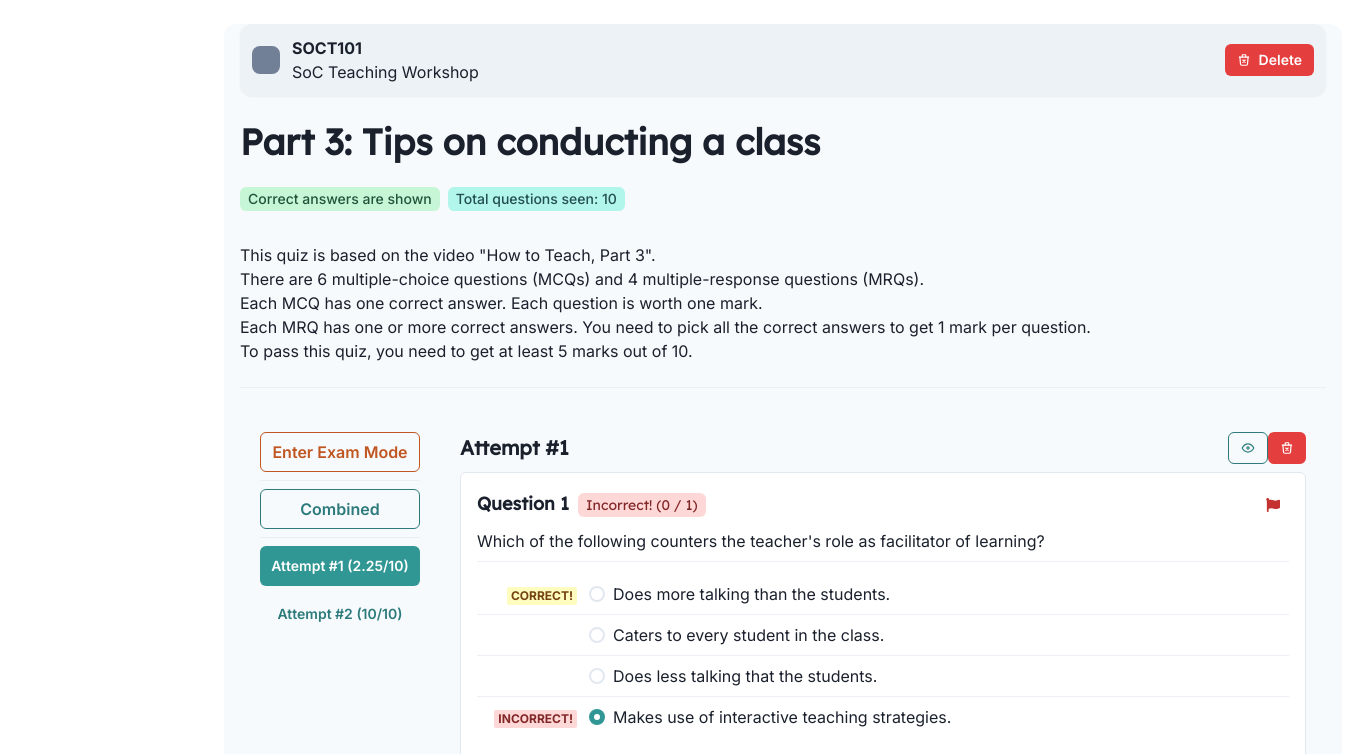
Quiz page editing › should show a warning before deleting an attempt
The image size is (1366, 754).
Click the button with test id "delete-attempt-1": (1287,448) [1268,432,1306,464]
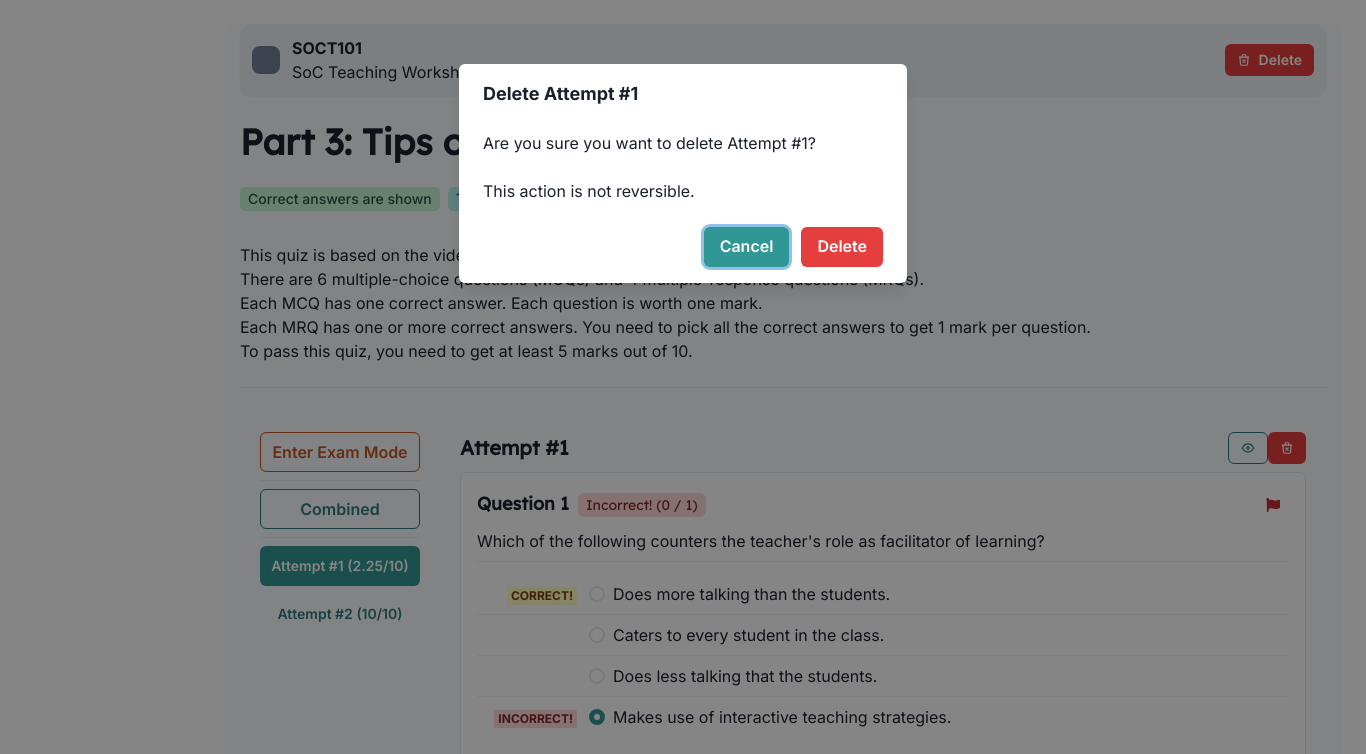
Check: the button with test id "confirm-delete-attempt" is shown, box [801,227,883,267]
